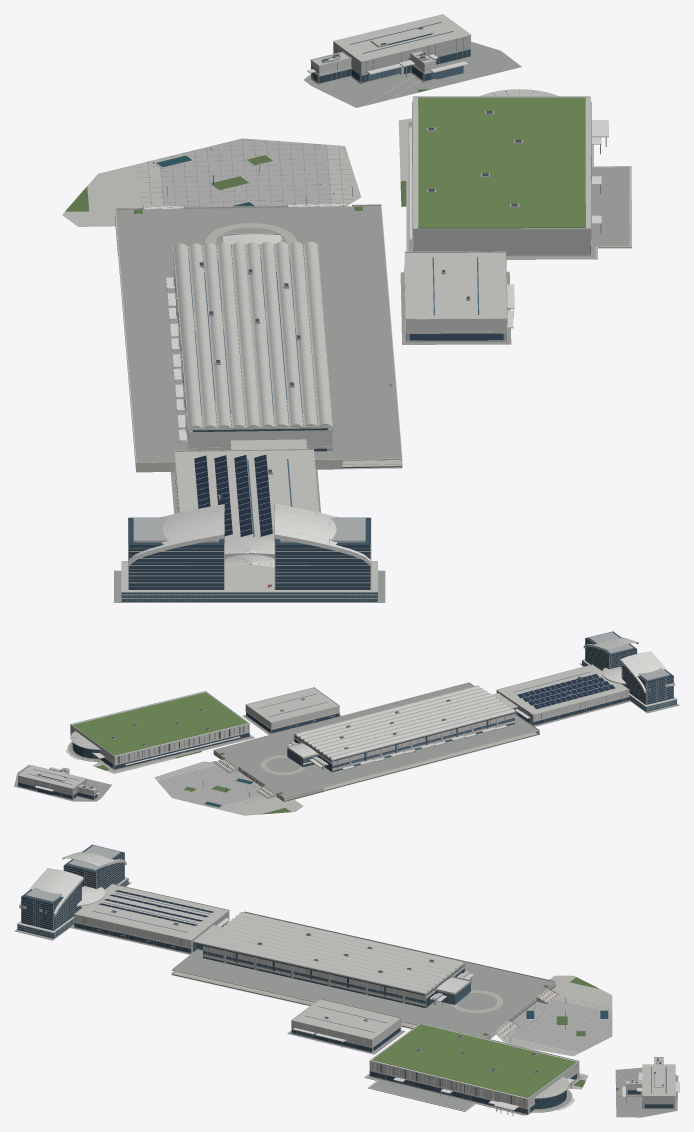
3 renders of one model, top to bottom at view 1: azimuth 30°, elevation 25°; view 2: azimuth 150°, elevation 25°; view 3: azimuth 270°, elevation 25°, orthographic. The views are drawn at different scales.
Parts seen in each view (by area): view 1: NICEC_M_v8_white, NICEC_M_v8_pave2, NICEC_M_v8_greenroof, NICEC_M_v8_glass, NICEC_M_pave_mid, NICEC_M_v8_metal, NICEC_M_v8_membrane, NICEC_M_pave_light, NICEC_M_v8_glass2, NICEC_M_v8_stone, NICEC_M_v8_solar, NICEC_M_v8_awning (+3 smaller); view 2: NICEC_M_v8_white, NICEC_M_v8_pave2, NICEC_M_v8_greenroof, NICEC_M_v8_glass, NICEC_M_v8_stone, NICEC_M_pave_mid, NICEC_M_v8_metal, NICEC_M_v8_membrane, NICEC_M_pave_light, NICEC_M_v8_solar, NICEC_M_v8_glass2, NICEC_M_v8_awning (+5 smaller); view 3: NICEC_M_v8_white, NICEC_M_v8_pave2, NICEC_M_v8_greenroof, NICEC_M_v8_glass, NICEC_M_pave_mid, NICEC_M_v8_stone, NICEC_M_v8_metal, NICEC_M_v8_membrane, NICEC_M_v8_glass2, NICEC_M_pave_light, NICEC_M_v8_mullion, NICEC_M_pave_dark (+3 smaller).
Boxes of the visible parts, bbox=[...] form: NICEC_M_v8_white: bbox=[114, 14, 591, 598]; NICEC_M_v8_pave2: bbox=[114, 41, 631, 602]; NICEC_M_v8_greenroof: bbox=[418, 97, 585, 228]; NICEC_M_v8_glass: bbox=[128, 33, 590, 589]; NICEC_M_pave_mid: bbox=[160, 138, 331, 207]; NICEC_M_v8_metal: bbox=[133, 27, 590, 542]; NICEC_M_v8_membrane: bbox=[128, 234, 370, 567]; NICEC_M_pave_light: bbox=[62, 86, 411, 226]; NICEC_M_v8_glass2: bbox=[121, 22, 479, 601]; NICEC_M_v8_stone: bbox=[116, 56, 631, 512]; NICEC_M_v8_solar: bbox=[194, 454, 272, 536]; NICEC_M_v8_awning: bbox=[166, 54, 608, 441]; NICEC_M_v8_white: bbox=[18, 638, 677, 800]; NICEC_M_v8_pave2: bbox=[14, 663, 679, 801]; NICEC_M_v8_greenroof: bbox=[73, 692, 247, 755]; NICEC_M_v8_glass: bbox=[18, 631, 673, 799]; NICEC_M_v8_stone: bbox=[17, 682, 629, 807]; NICEC_M_pave_mid: bbox=[157, 765, 261, 807]; NICEC_M_v8_metal: bbox=[18, 632, 669, 799]; NICEC_M_v8_membrane: bbox=[289, 637, 675, 756]; NICEC_M_pave_light: bbox=[92, 757, 303, 815]; NICEC_M_v8_solar: bbox=[517, 674, 614, 708]; NICEC_M_v8_glass2: bbox=[27, 660, 676, 797]; NICEC_M_v8_awning: bbox=[34, 709, 530, 794]; NICEC_M_v8_white: bbox=[17, 852, 675, 1109]; NICEC_M_v8_pave2: bbox=[14, 882, 678, 1117]; NICEC_M_v8_greenroof: bbox=[372, 1024, 576, 1097]; NICEC_M_v8_glass: bbox=[21, 844, 675, 1114]; NICEC_M_pave_mid: bbox=[497, 1000, 612, 1052]; NICEC_M_v8_stone: bbox=[74, 912, 675, 1115]; NICEC_M_v8_metal: bbox=[25, 845, 675, 1113]; NICEC_M_v8_membrane: bbox=[19, 851, 468, 992]; NICEC_M_v8_glass2: bbox=[17, 879, 666, 1105]; NICEC_M_pave_light: bbox=[495, 975, 612, 1089]; NICEC_M_v8_mullion: bbox=[24, 853, 637, 1115]; NICEC_M_pave_dark: bbox=[496, 996, 612, 1054].
Bounding box in the file's own units: 741 × 59.22 × 853.
